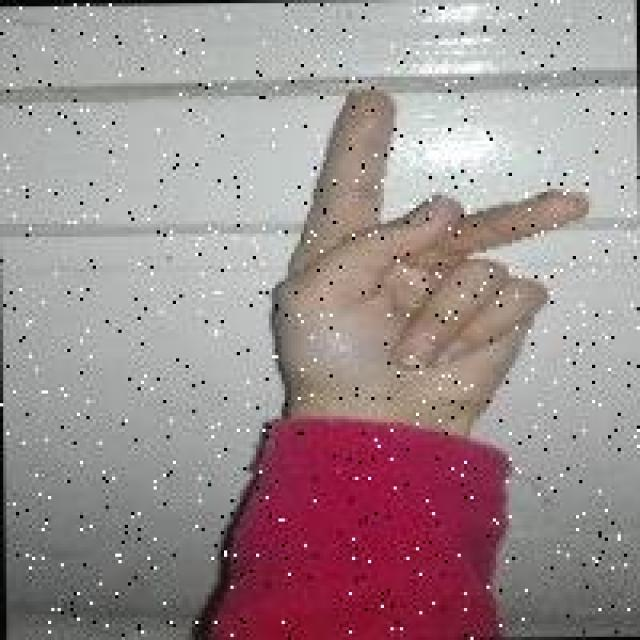K: (258, 74, 600, 412)
